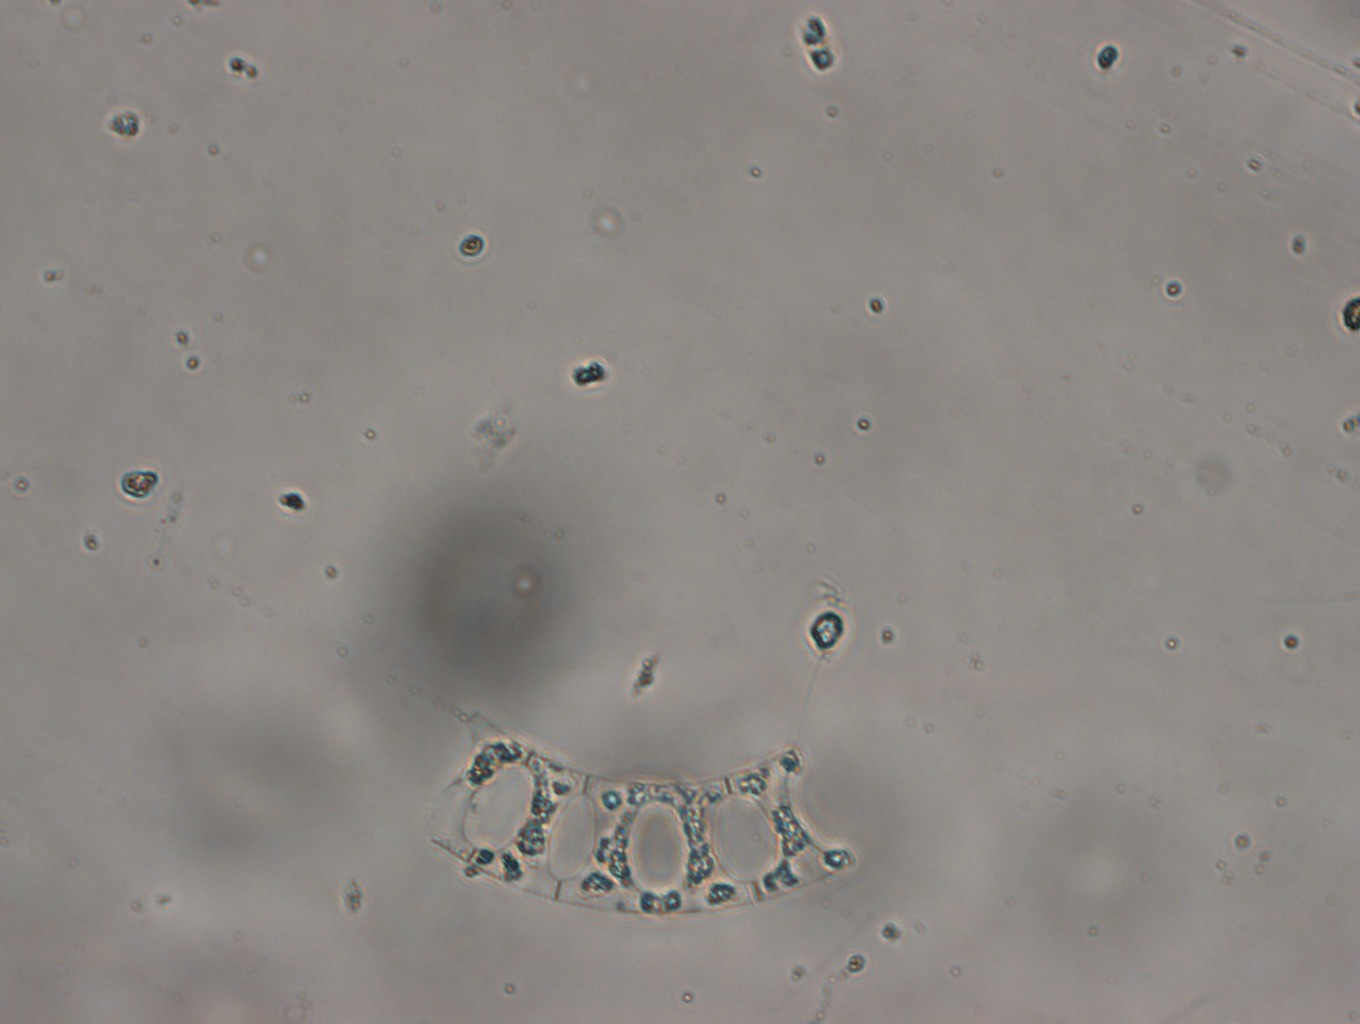eucampia: (424, 735, 870, 914)
